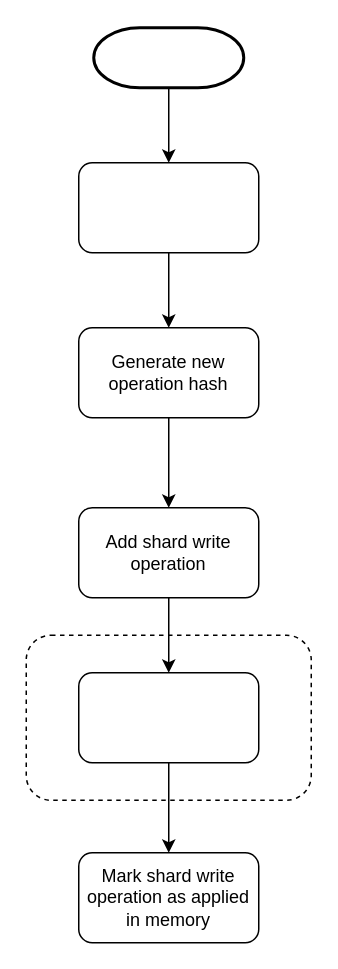
The diagram is 338 pixels wide and 969 high, and some of its shapes have lost their labels. The shapes that lost their labels are listed below. From the top down, each one's centre as x and y in pixels, then its label:
At point (168, 207): "Get next operation position".
At point (168, 717): "Apply shard write operation to datastore".
